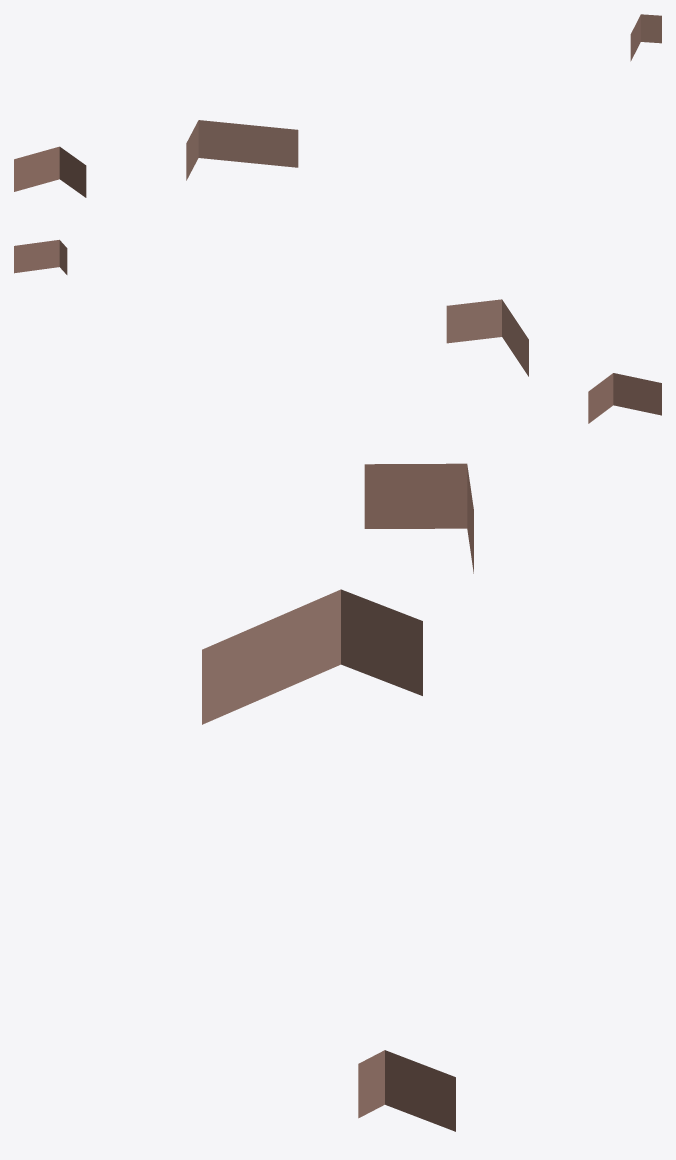
File: c_1639_17832_buildings_residential.glb
3 views of the same model, one above another, from view 1: azimuth 30°, elevation 25°; view 2: azimuth 150°, elevation 25°; view 3: azimuth 270°, elevation 25° (orthographic). The views are drawn at different scales.
Visible parts, largest first — view 1: geometry_0; view 2: geometry_0; view 3: geometry_0.
Part boxes in pixels (<box>): geometry_0: <box>14,14,661,197</box>; geometry_0: <box>14,239,661,423</box>; geometry_0: <box>202,463,473,1131</box>.
Bounding box in the file's own units: 194 × 11.08 × 36.03.
